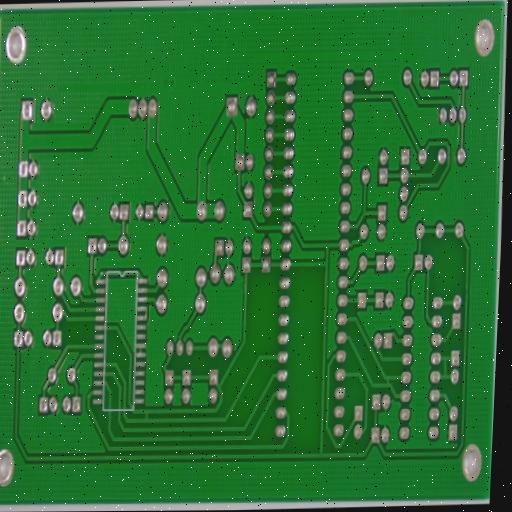short_circuit: (434, 351, 454, 383), (381, 370, 394, 393), (142, 404, 152, 425)
